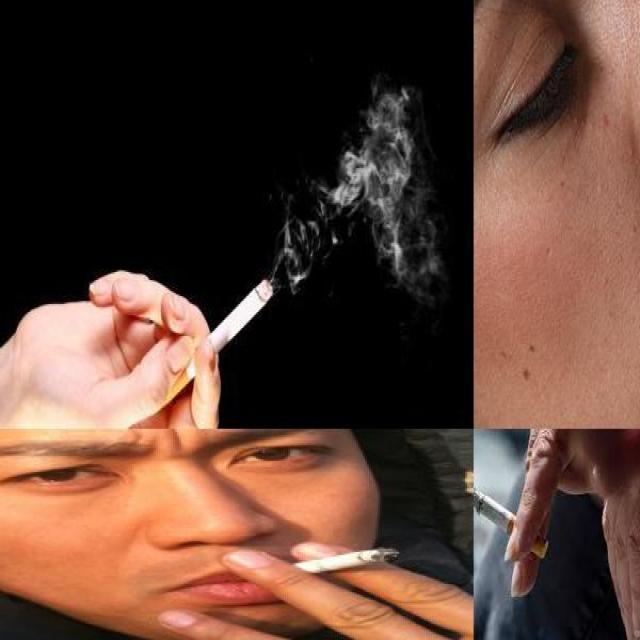smoking: (154, 279, 274, 412), (474, 485, 550, 560), (273, 544, 403, 574)
